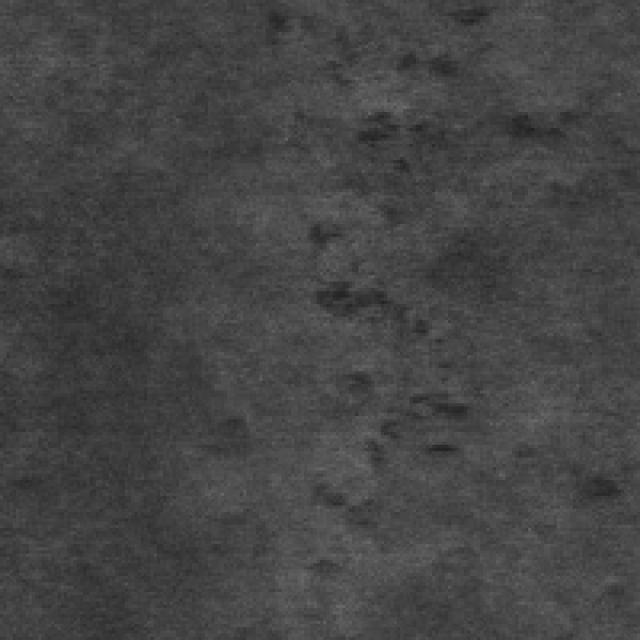rolled-in_scale: (304, 99, 474, 522)
